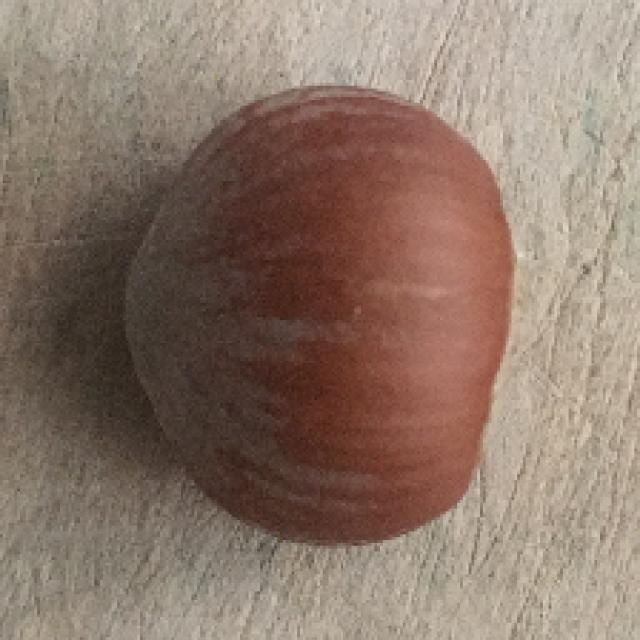qualityHazelnut: (123, 87, 521, 544)
